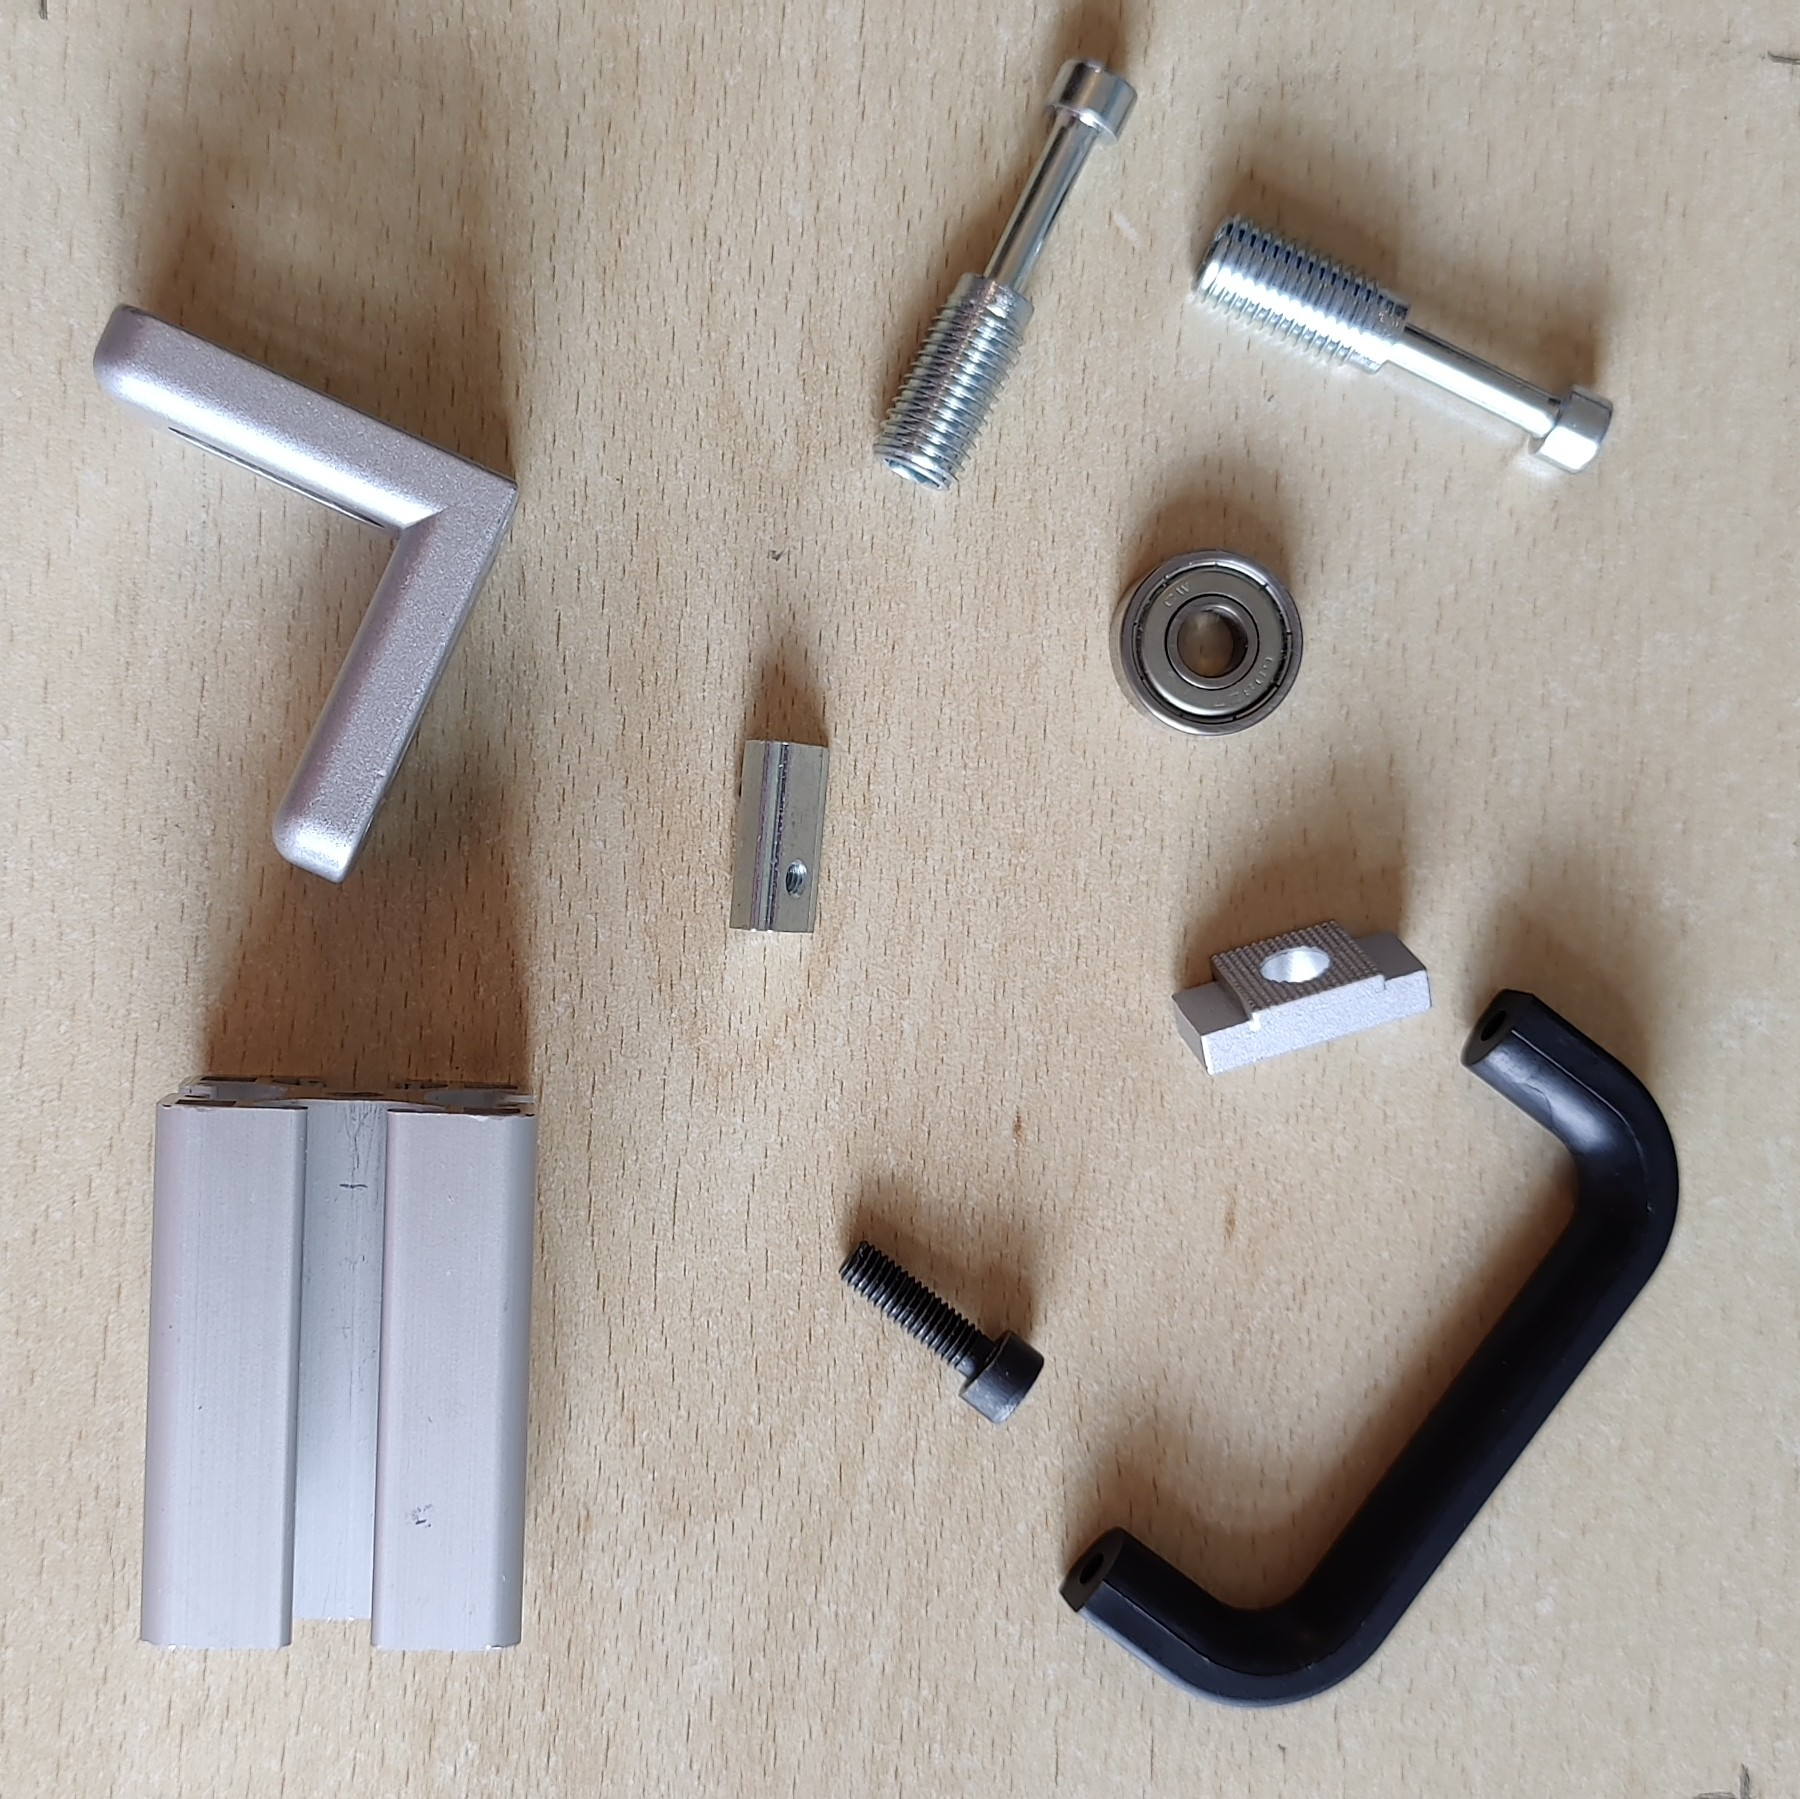Aluminium Extension: (137, 1069, 542, 1654)
Ball Bearing: (1105, 545, 1304, 740)
Multiwinkel: (91, 300, 524, 890)
Pull Handle: (1054, 984, 1681, 1712)
Shoulder Socket Head Cap Screw: (871, 53, 1138, 494), (1191, 213, 1616, 479)
Socket Head Cap Screw: (835, 1237, 1047, 1430)
T Nut Square: (1171, 918, 1436, 1079)
T Spring Nut: (726, 736, 833, 937)
